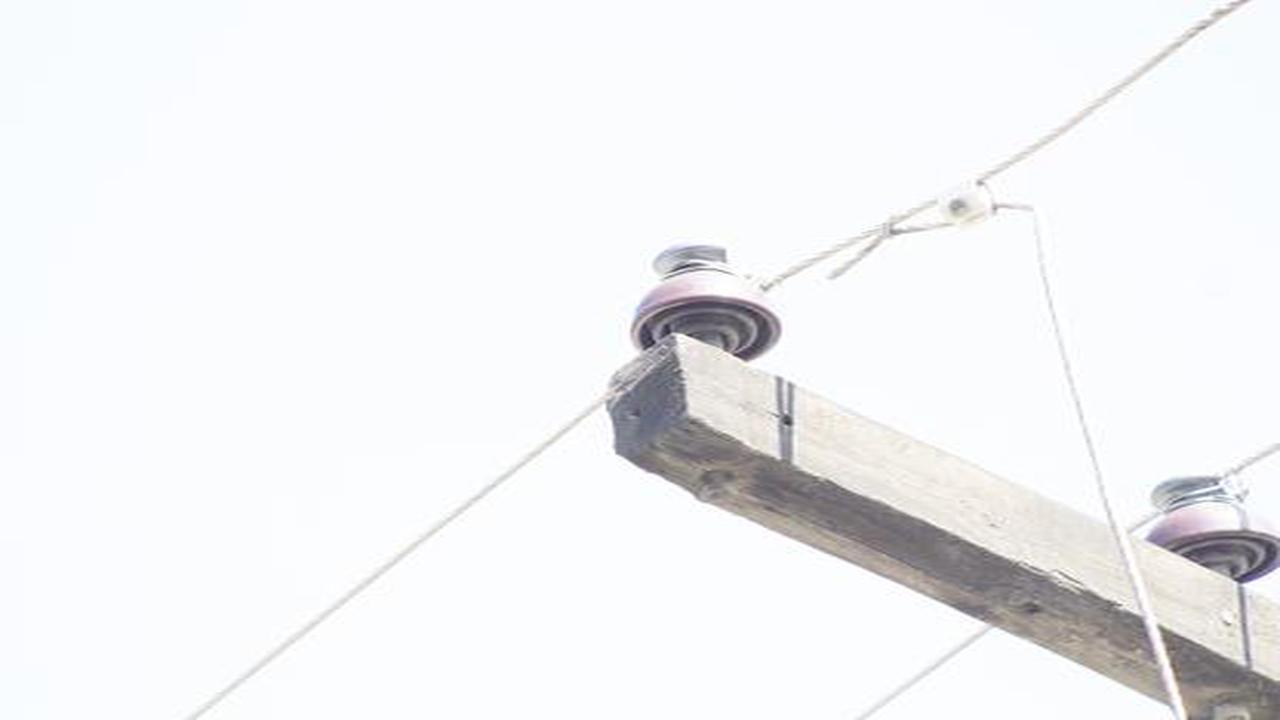insulator_pin: (624, 239, 795, 359), (1140, 473, 1269, 574)
